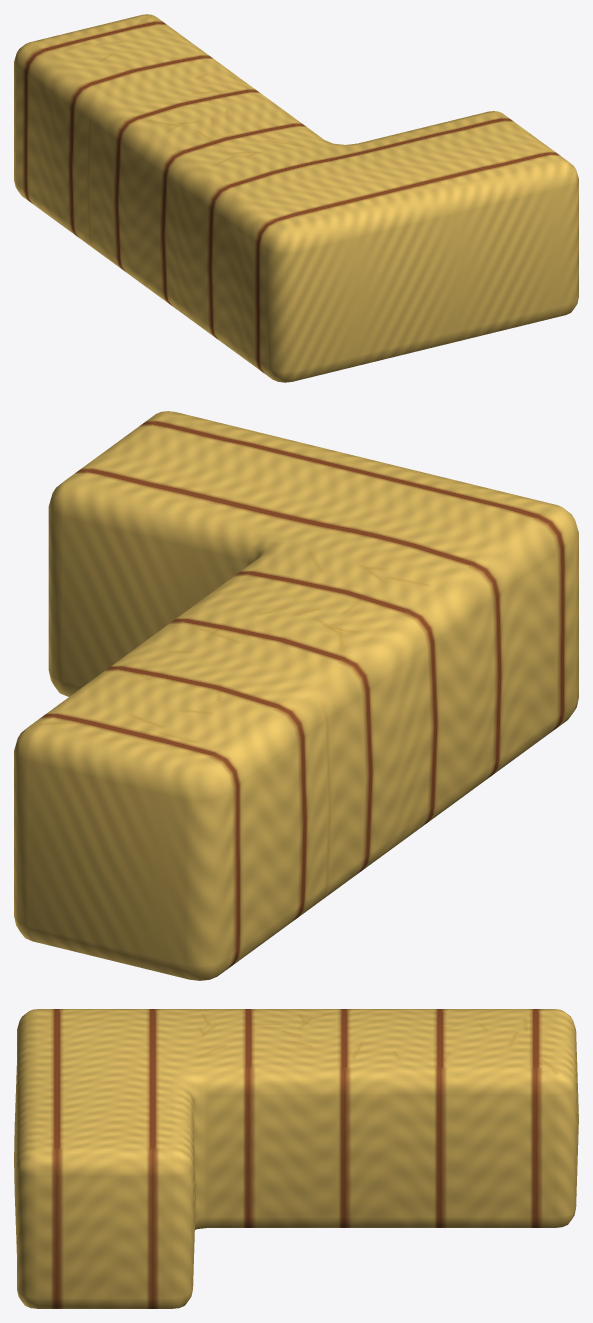
Rendered from HayBale_L.fbx.
3 renders of one model, top to bottom at view 1: azimuth 30°, elevation 25°; view 2: azimuth 150°, elevation 25°; view 3: azimuth 270°, elevation 25°, orthographic. The views are drawn at different scales.
Parts seen in each view (by area): view 1: HayBale_L; view 2: HayBale_L; view 3: HayBale_L.
Part boxes in pixels (<box>): HayBale_L: <box>14,14,578,382</box>; HayBale_L: <box>14,411,578,980</box>; HayBale_L: <box>14,1009,578,1308</box>.
Bounding box in the file's own units: 1.95 × 0.9078 × 2.95.
Materials: 1 (1 with a texture image).
